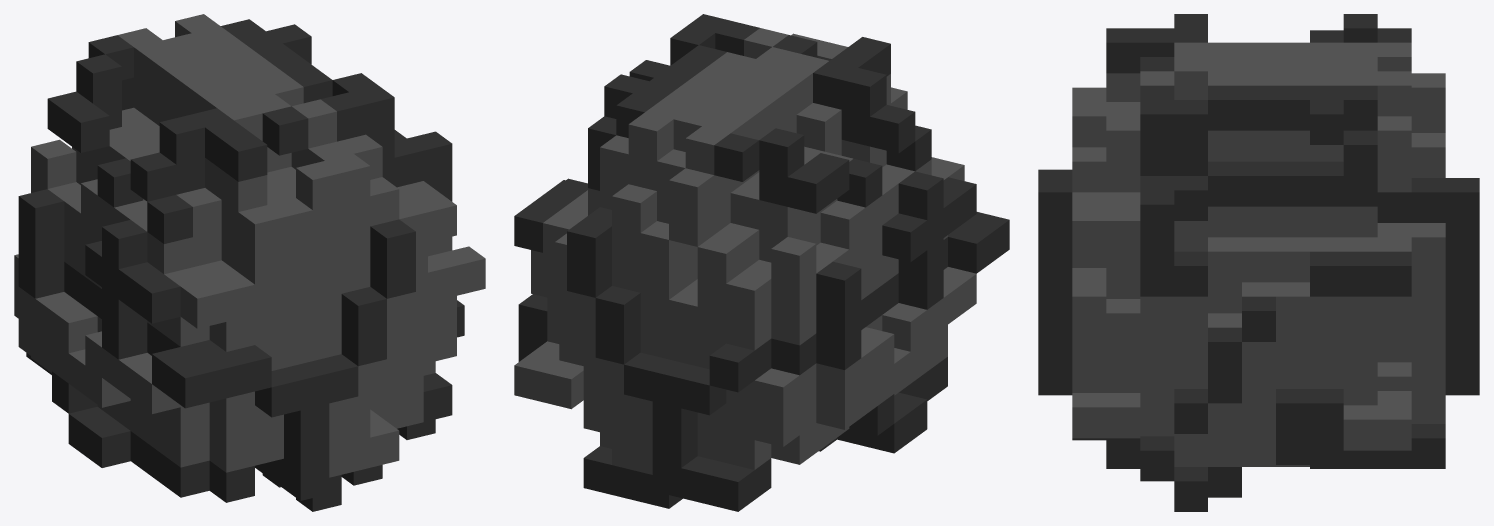
File: stone.obj
The picture shows the model from 3 angles, left to right: view 1: azimuth 30°, elevation 25°; view 2: azimuth 150°, elevation 25°; view 3: azimuth 270°, elevation 25°; orthographic projection. The views are drawn at different scales.
Bounding box in the file's own units: 1.2 × 1.2 × 1.3.
Materials: 1 (1 with a texture image).
